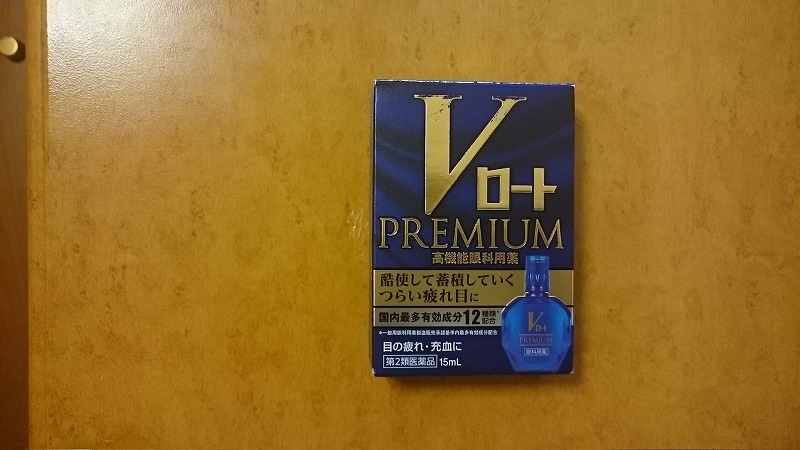D: (369, 77, 581, 388)
